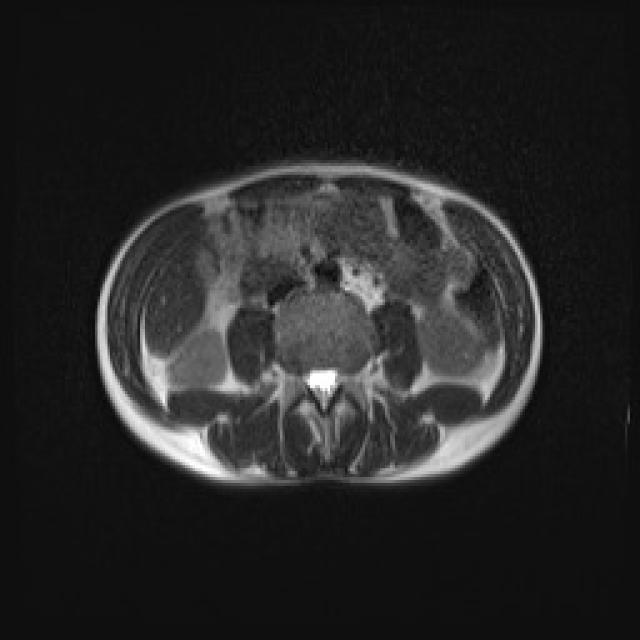sag: (169, 332, 228, 384)
sol: (418, 304, 493, 379)
